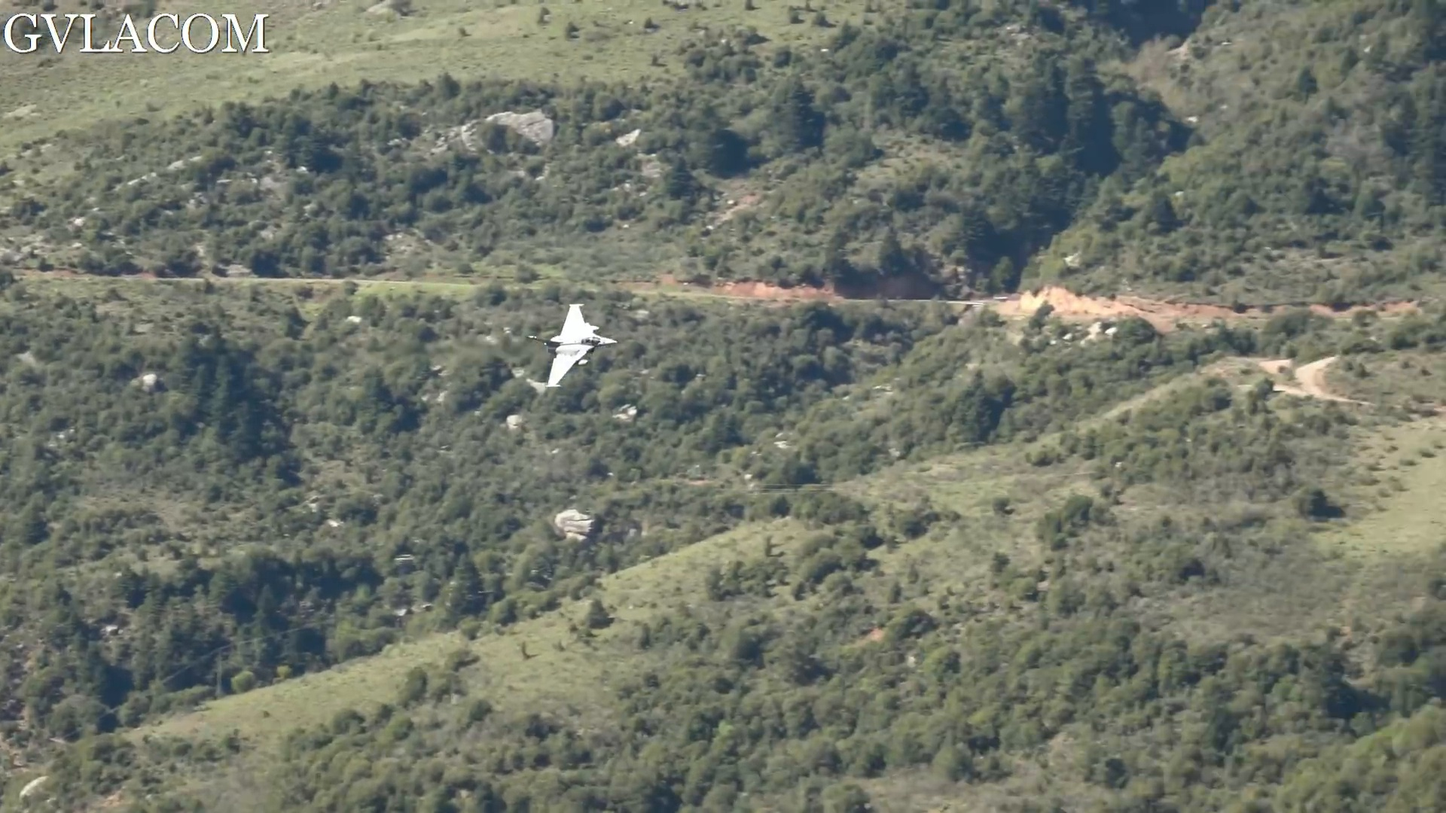Rafale: (526, 302, 621, 389)
